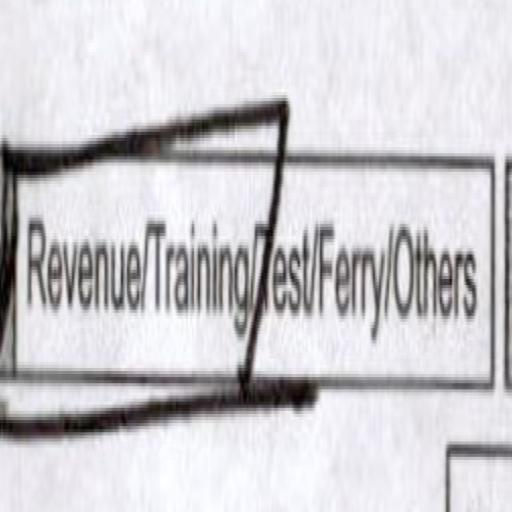check: (149, 66, 252, 475), (20, 92, 140, 435)
